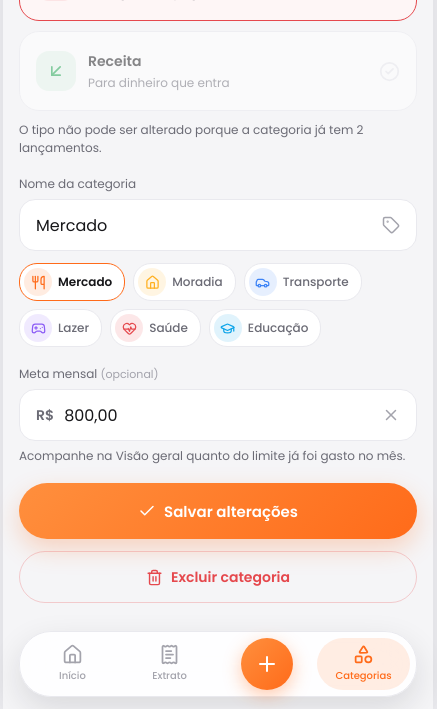
Test case: monthly goals › shows the saved goal and sends a new one
(page scrolled)
expect the field named "Meta mensal em reais" holds "800,00": met, box 64,402 -> 372,428
Click the button named "Remover meta" at (391, 415), box 382,406 -> 400,424
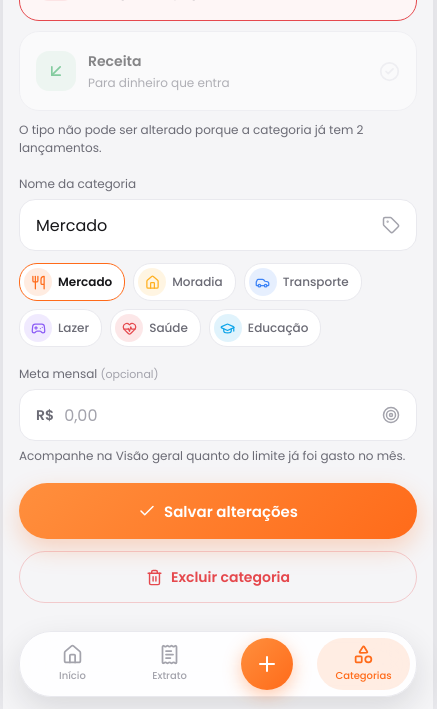
expect the field named "Meta mensal em reais" is empty: met
Type "125050" into the field named "Meta mensal em reais" at (218, 415), box 64,402 -> 372,428
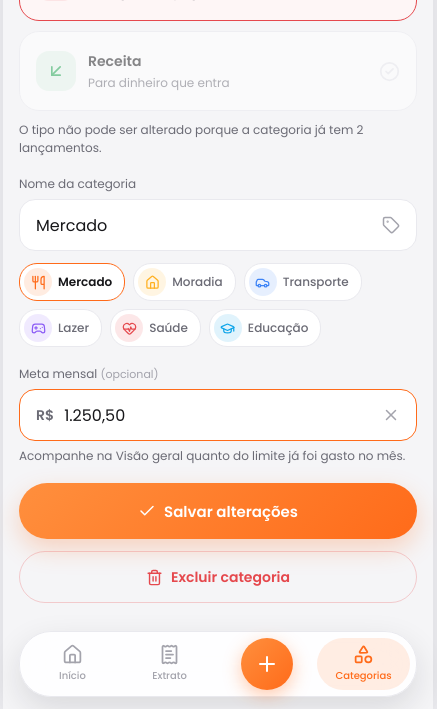
expect the field named "Meta mensal em reais" holds "1.250,50": met, box 64,402 -> 372,428
Click the button "Salvar alterações" at (218, 511), box 19,483 -> 417,539
(page scrolled)
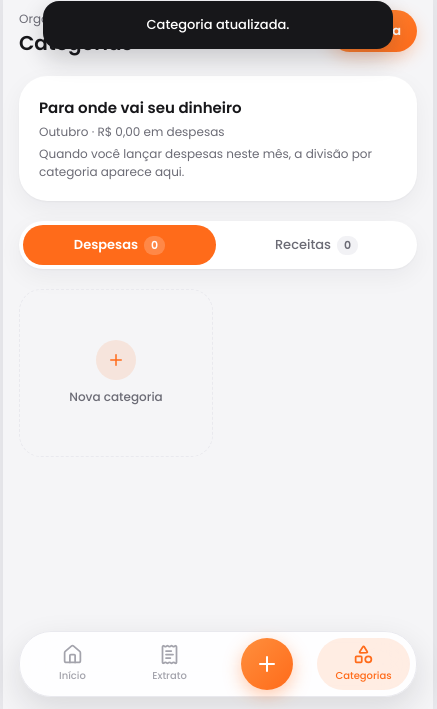
expect the heading "Categorias" is shown: met, box 19,30 -> 148,56
